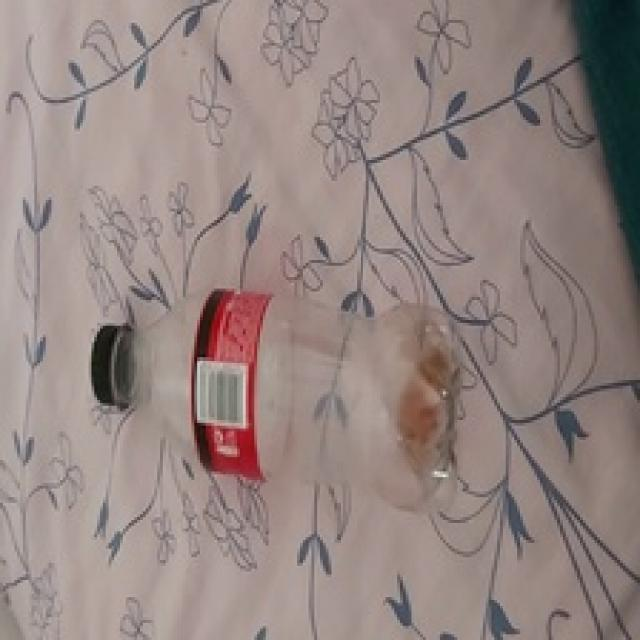Plastic: (92, 290, 452, 514)
